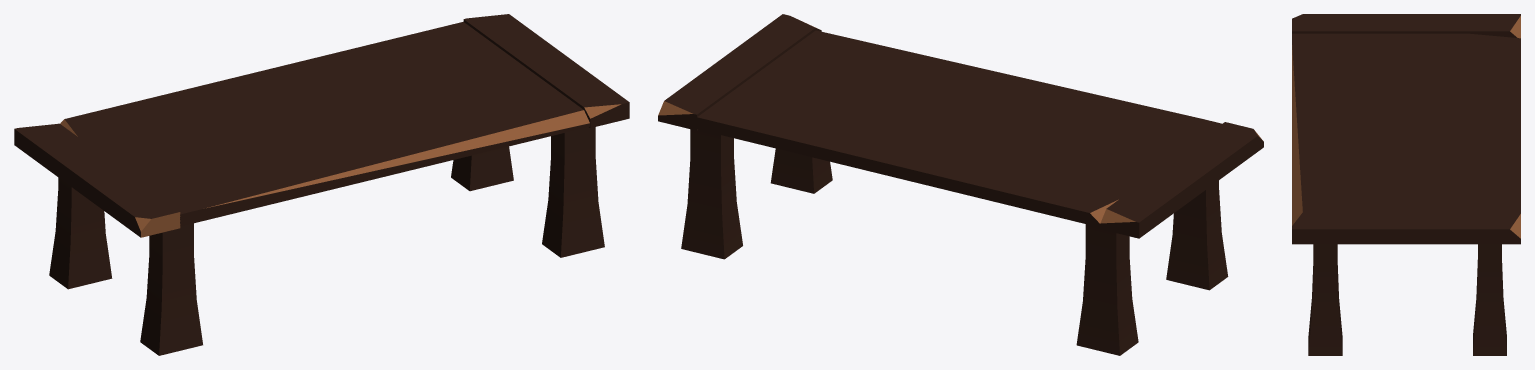
The model's file is SM_table_inn.fbx.
The picture shows the model from 3 angles, left to right: view 1: azimuth 30°, elevation 25°; view 2: azimuth 150°, elevation 25°; view 3: azimuth 270°, elevation 25°; orthographic projection. The views are drawn at different scales.
Parts seen in each view (by area): view 1: Box003; view 2: Box003; view 3: Box003.
Boxes of the visible parts, box(x1,y1,x2,y2) form: Box003: box(14, 14, 629, 355); Box003: box(658, 14, 1263, 355); Box003: box(1292, 14, 1520, 355).
Bounding box in the file's own units: 109 × 31.49 × 48.96.
